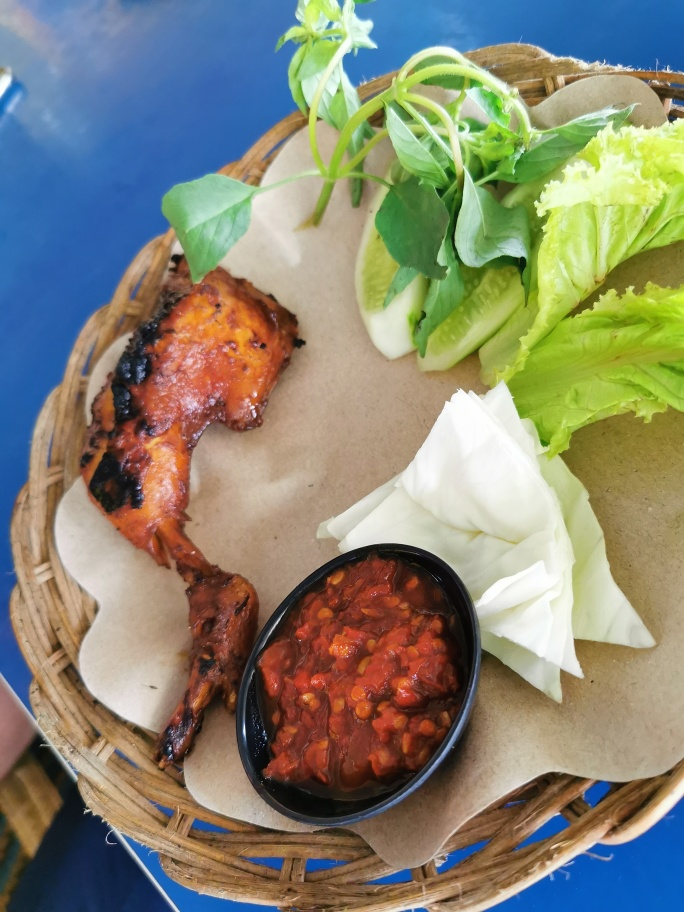ayam bakar: (77, 249, 304, 777)
